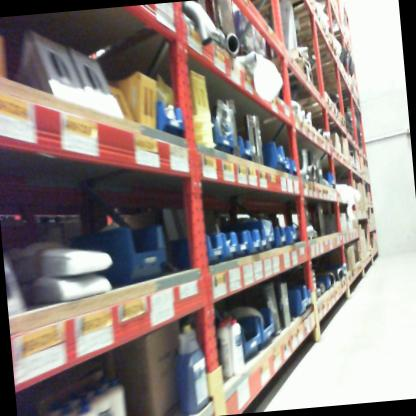pallet: (269, 16, 337, 50), (284, 87, 340, 128), (264, 57, 318, 94), (253, 0, 321, 24), (260, 47, 319, 72), (294, 32, 339, 62), (339, 106, 350, 131)
